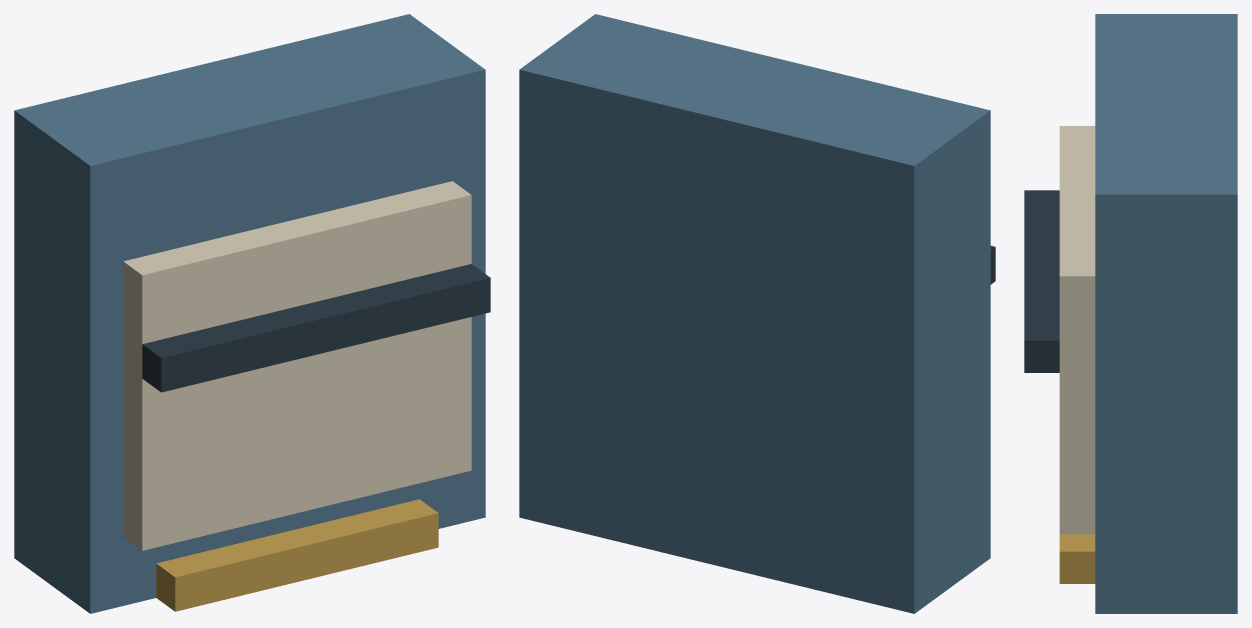
File: security-12.glb
3 renders of one model, left to right at view 1: azimuth 30°, elevation 25°; view 2: azimuth 150°, elevation 25°; view 3: azimuth 270°, elevation 25°, orthographic. The views are drawn at different scales.
Visible parts, largest first — view 1: Backup cartridge; view 2: Backup cartridge; view 3: Backup cartridge.
Boxes of the visible parts, left/top/right/bottom form: Backup cartridge: left=14, top=14, right=490, bottom=613; Backup cartridge: left=519, top=14, right=995, bottom=613; Backup cartridge: left=1024, top=14, right=1237, bottom=613.
Size of the model in its own units: 0.96 by 1.04 by 0.48.
